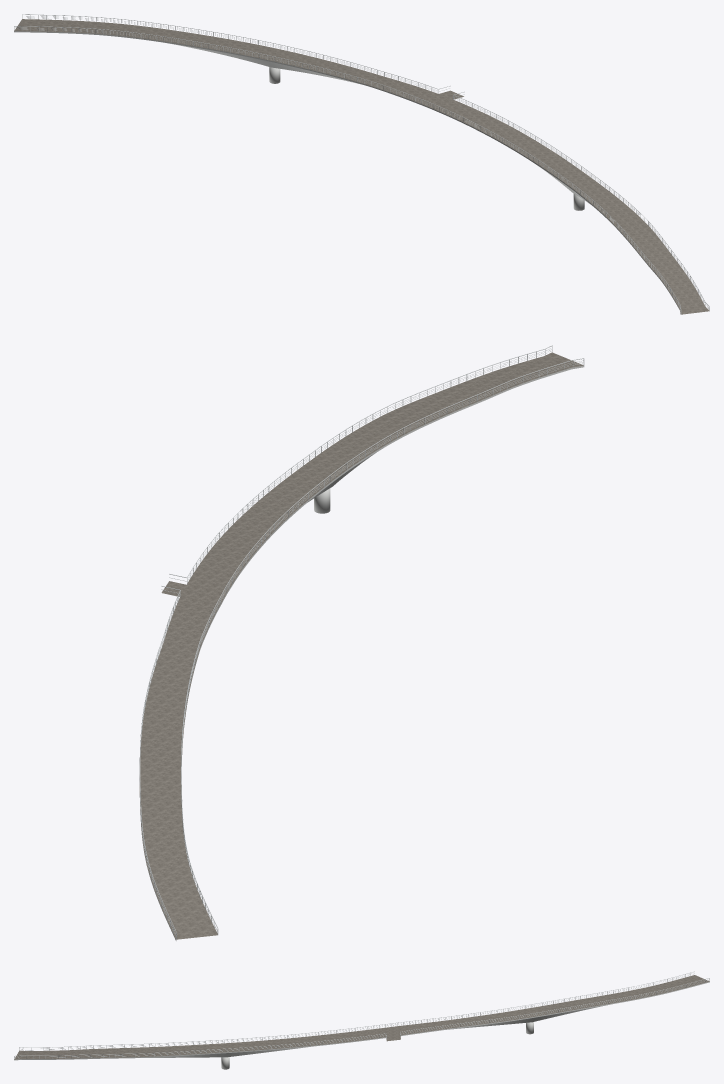
3 views of the same model, one above another, from view 1: azimuth 30°, elevation 25°; view 2: azimuth 150°, elevation 25°; view 3: azimuth 270°, elevation 25° (orthographic). The views are drawn at different scales.
Parts seen in each view (by area): view 1: Jubilee deck aggregate, Jubilee stainless steel rails, Jubilee variable-depth concrete girder; view 2: Jubilee deck aggregate, Jubilee stainless steel rails, Jubilee variable-depth concrete girder; view 3: Jubilee deck aggregate, Jubilee stainless steel rails, Jubilee variable-depth concrete girder.
Part boxes in pixels (x1,y1,x2,y2): Jubilee deck aggregate: (14,19,709,314); Jubilee stainless steel rails: (14,14,709,314); Jubilee variable-depth concrete girder: (14,31,680,313); Jubilee deck aggregate: (139,352,583,939); Jubilee stainless steel rails: (139,345,584,939); Jubilee variable-depth concrete girder: (139,365,584,940); Jubilee deck aggregate: (14,975,709,1059); Jubilee stainless steel rails: (14,971,709,1059); Jubilee variable-depth concrete girder: (14,981,709,1069).
Bounding box in the file's own units: 66.65 × 9.3 × 208.
3 materials, 1 textured.
